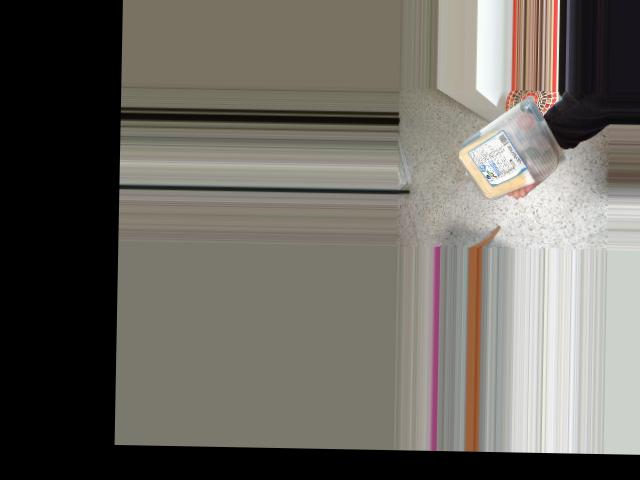cheese: (455, 136, 549, 190)
